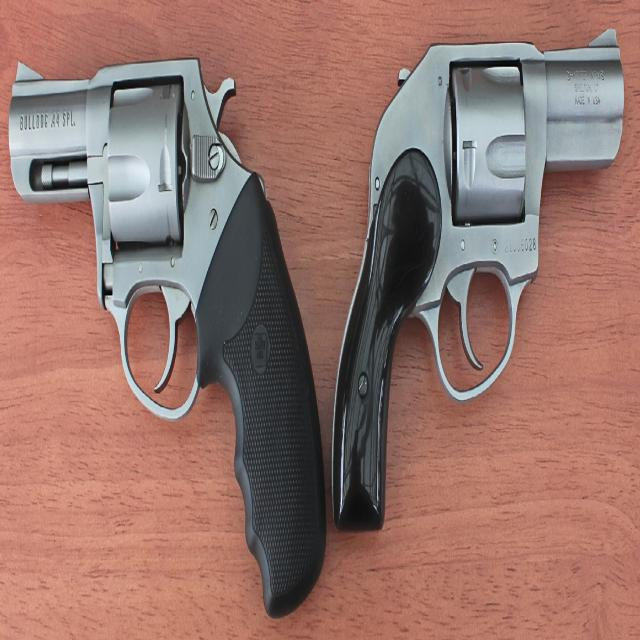Gun: (4, 18, 329, 624), (328, 4, 639, 548)
